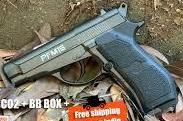gun: (1, 1, 183, 121)
